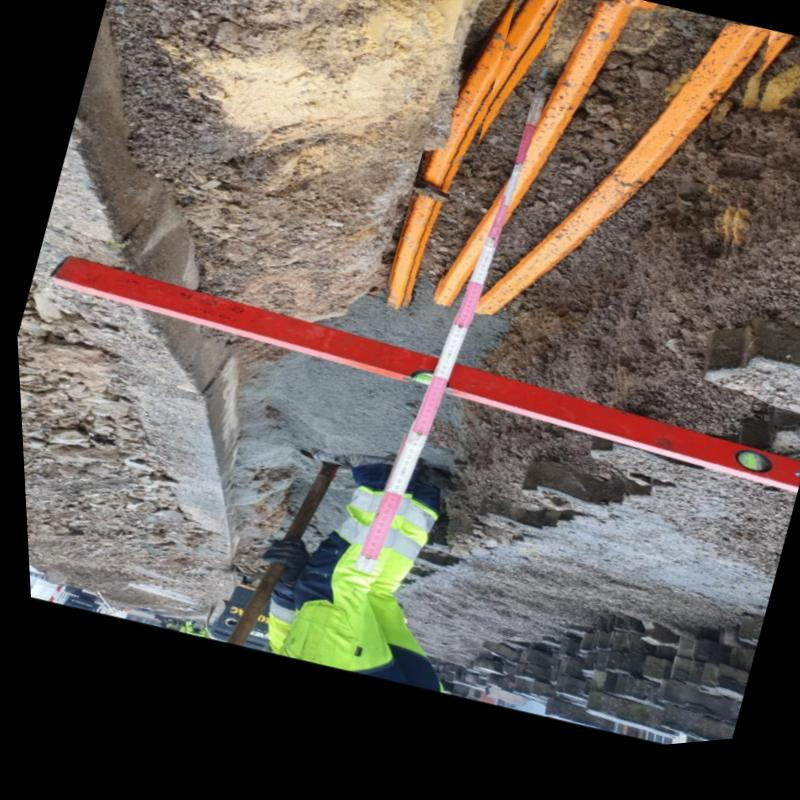Orang-Speednetrohrchen: (472, 38, 774, 324), (432, 8, 648, 315), (382, 0, 569, 309)
